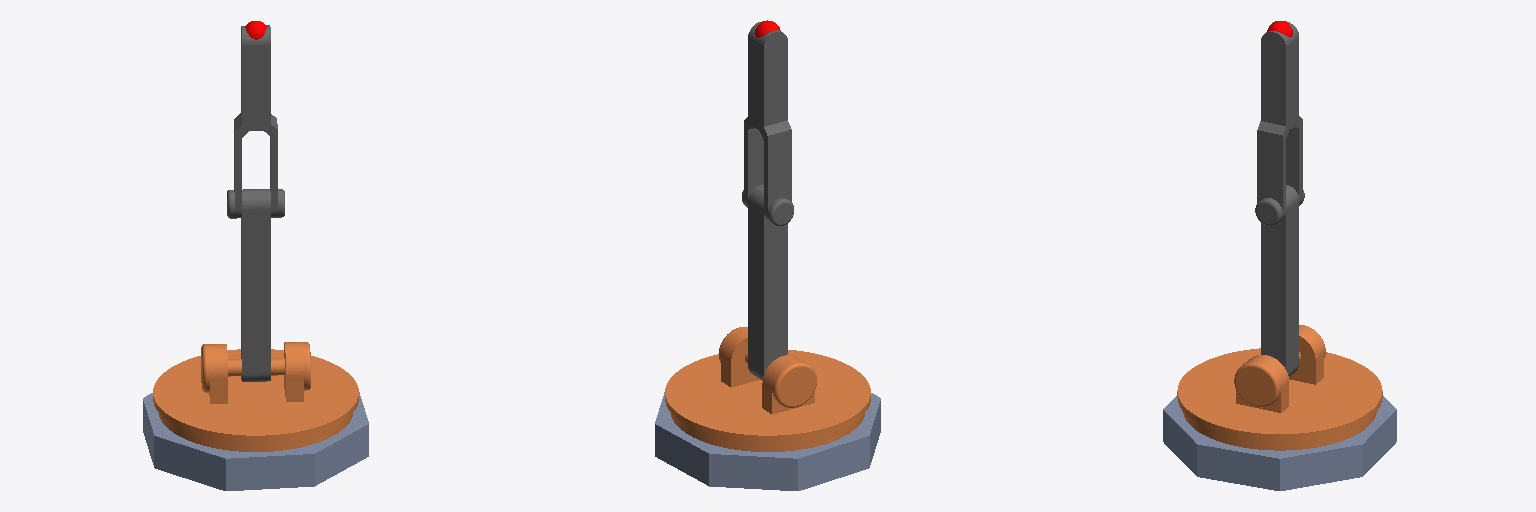
The robot description file, URDF, robot "2AxisArm_pybullet":
<?xml version="1.0"?>
<robot name="2AxisArm_pybullet">

  <material name="base_gray">
    <color rgba="0.55 0.60 0.70 1"/>
  </material>

  <material name="copper">
    <color rgba="0.90 0.55 0.32 1"/>
  </material>

  <material name="arm_gray">
    <color rgba="0.45 0.45 0.45 1"/>
  </material>

  <material name="tool_red">
    <color rgba="1.0 0.05 0.05 1"/>
  </material>

  <link name="base_link">
    <visual>
      <geometry>
        <mesh filename="pybullet_meshes/ActualBase_local.STL" scale="1 1 1"/>
      </geometry>
      <material name="base_gray"/>
    </visual>

    <collision>
      <origin xyz="0 0 -0.025" rpy="0 0 0"/>
      <geometry>
        <box size="0.325 0.325 0.050"/>
      </geometry>
    </collision>

    <inertial>
      <mass value="2.0"/>
      <origin xyz="0 0 -0.025" rpy="0 0 0"/>
      <inertia ixx="0.020" ixy="0" ixz="0" iyy="0.020" iyz="0" izz="0.030"/>
    </inertial>
  </link>

  <link name="yaw_link">
    <visual>
      <geometry>
        <mesh filename="pybullet_meshes/Yaw_local.STL" scale="1 1 1"/>
      </geometry>
      <material name="copper"/>
    </visual>

    <collision>
      <origin xyz="0 0 0.050" rpy="0 0 0"/>
      <geometry>
        <cylinder radius="0.145" length="0.100"/>
      </geometry>
    </collision>

    <inertial>
      <mass value="1.0"/>
      <origin xyz="0 0 0.050" rpy="0 0 0"/>
      <inertia ixx="0.006" ixy="0" ixz="0" iyy="0.006" iyz="0" izz="0.010"/>
    </inertial>
  </link>

  <link name="lower_arm_link">
    <visual>
      <geometry>
        <mesh filename="pybullet_meshes/LowerArm_local.STL" scale="1 1 1"/>
      </geometry>
      <material name="arm_gray"/>
    </visual>

    <collision>
      <origin xyz="0.125 0 0" rpy="0 0 0"/>
      <geometry>
        <box size="0.290 0.080 0.040"/>
      </geometry>
    </collision>

    <inertial>
      <mass value="0.7"/>
      <origin xyz="0.125 0 0" rpy="0 0 0"/>
      <inertia ixx="0.002" ixy="0" ixz="0" iyy="0.006" iyz="0" izz="0.006"/>
    </inertial>
  </link>

  <link name="upper_arm_link">
    <visual>
      <geometry>
        <mesh filename="pybullet_meshes/UpperArm_local.STL" scale="1 1 1"/>
      </geometry>
      <material name="arm_gray"/>
    </visual>

    <collision>
      <origin xyz="0.125 0 0" rpy="0 0 0"/>
      <geometry>
        <box size="0.290 0.060 0.040"/>
      </geometry>
    </collision>

    <inertial>
      <mass value="0.5"/>
      <origin xyz="0.125 0 0" rpy="0 0 0"/>
      <inertia ixx="0.001" ixy="0" ixz="0" iyy="0.004" iyz="0" izz="0.004"/>
    </inertial>
  </link>

  <link name="tool0">
    <visual>
      <geometry>
        <sphere radius="0.018"/>
      </geometry>
      <material name="tool_red"/>
    </visual>

    <inertial>
      <mass value="0.01"/>
      <origin xyz="0 0 0" rpy="0 0 0"/>
      <inertia ixx="0.000001" ixy="0" ixz="0" iyy="0.000001" iyz="0" izz="0.000001"/>
    </inertial>
  </link>

  <joint name="joint0_yaw" type="revolute">
    <parent link="base_link"/>
    <child link="yaw_link"/>
    <origin xyz="0 0 0" rpy="0 0 0"/>
    <axis xyz="0 0 1"/>
    <limit lower="-3.14159" upper="3.14159" effort="10" velocity="1"/>
  </joint>

  <joint name="joint1_shoulder" type="revolute">
    <parent link="yaw_link"/>
    <child link="lower_arm_link"/>
    <origin xyz="0 0 0.06665" rpy="0 -1.5708 1.0988"/>
    <axis xyz="0 1 0"/>
    <limit lower="-1.5708" upper="1.5708" effort="10" velocity="1"/>
  </joint>

  <joint name="joint2_elbow" type="revolute">
    <parent link="lower_arm_link"/>
    <child link="upper_arm_link"/>
    <origin xyz="0.250 0 0" rpy="0 0 0"/>
    <axis xyz="0 1 0"/>
    <limit lower="-2.2" upper="2.2" effort="10" velocity="1"/>
  </joint>

  <joint name="fixed_tool0" type="fixed">
    <parent link="upper_arm_link"/>
    <child link="tool0"/>
    <origin xyz="0.260 0 0" rpy="0 0 0"/>
  </joint>

</robot>

--- What the picture shows (computed from the rendered views, not written in the file) ---
Views: 3 orthographic renders of the robot side by side, from view 1: azimuth 30°, elevation 25°; view 2: azimuth 150°, elevation 25°; view 3: azimuth 270°, elevation 25°.
Robot: 2AxisArm_pybullet — 5 links, 4 joints (3 revolute, 1 fixed); root link base_link; default pose: all joints at 0.
Links seen in each view (by area): view 1: yaw_link, base_link, lower_arm_link, upper_arm_link; view 2: yaw_link, base_link, upper_arm_link, lower_arm_link; view 3: yaw_link, base_link, upper_arm_link, lower_arm_link.
Boxes of the visible links, x1,y1,x2,y2 form: yaw_link: [153, 342, 358, 451]; base_link: [143, 392, 368, 490]; lower_arm_link: [227, 189, 284, 381]; upper_arm_link: [234, 25, 277, 218]; yaw_link: [665, 327, 870, 451]; base_link: [655, 392, 880, 490]; upper_arm_link: [744, 21, 791, 222]; lower_arm_link: [742, 185, 793, 380]; yaw_link: [1177, 325, 1382, 450]; base_link: [1163, 396, 1396, 490]; upper_arm_link: [1257, 21, 1302, 219]; lower_arm_link: [1255, 185, 1304, 376].
Bounding box of the posed robot: 0.3247 × 0.3247 × 0.6446 m (x, y, z).
4 mesh visuals loaded from 4 distinct referenced files (4 binary STL).
